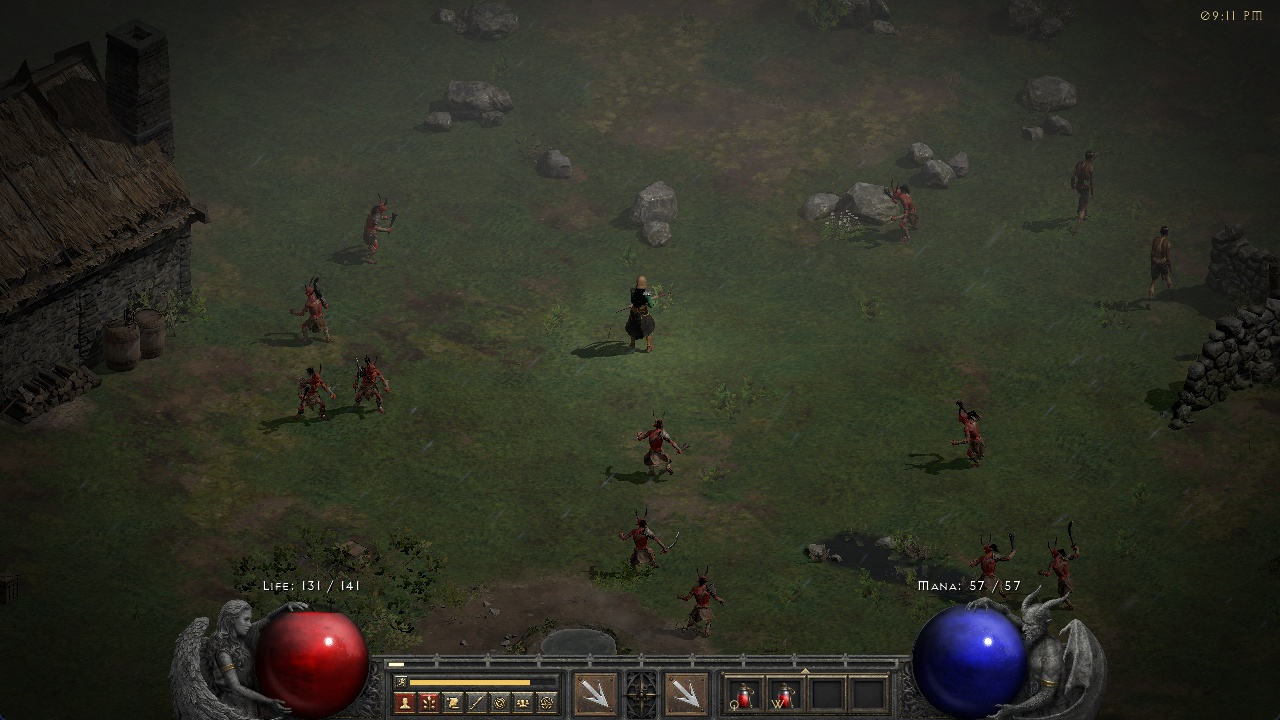fallen: (604, 507, 691, 574), (626, 414, 693, 475), (1041, 528, 1091, 604), (286, 275, 335, 347), (945, 398, 996, 467), (353, 195, 403, 263), (881, 178, 931, 246), (963, 535, 1022, 586), (349, 353, 393, 415), (685, 564, 723, 631), (288, 371, 338, 420)
